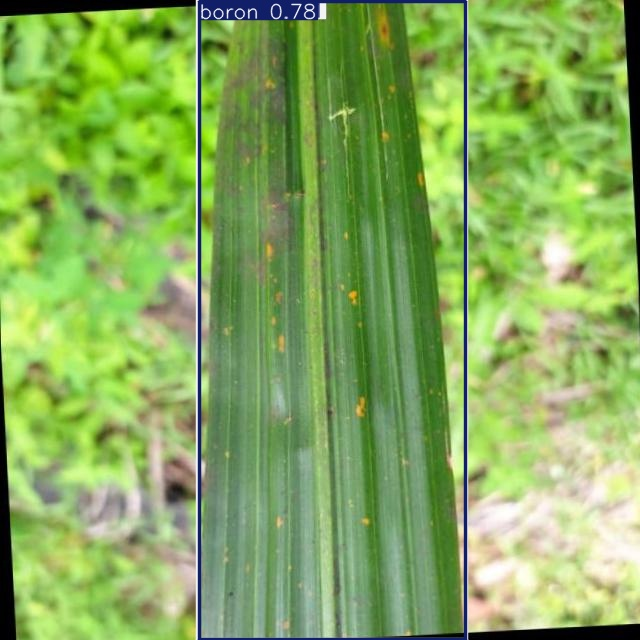Kalium: (198, 0, 467, 640)
nitrogen: (200, 1, 466, 640)
